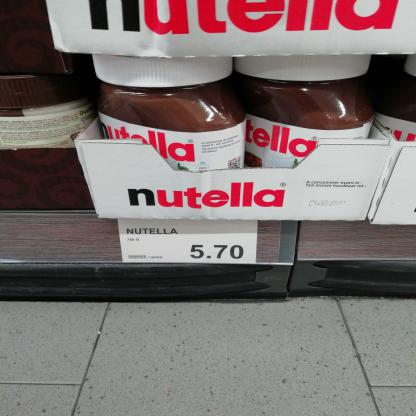prtg: (119, 220, 258, 265)
